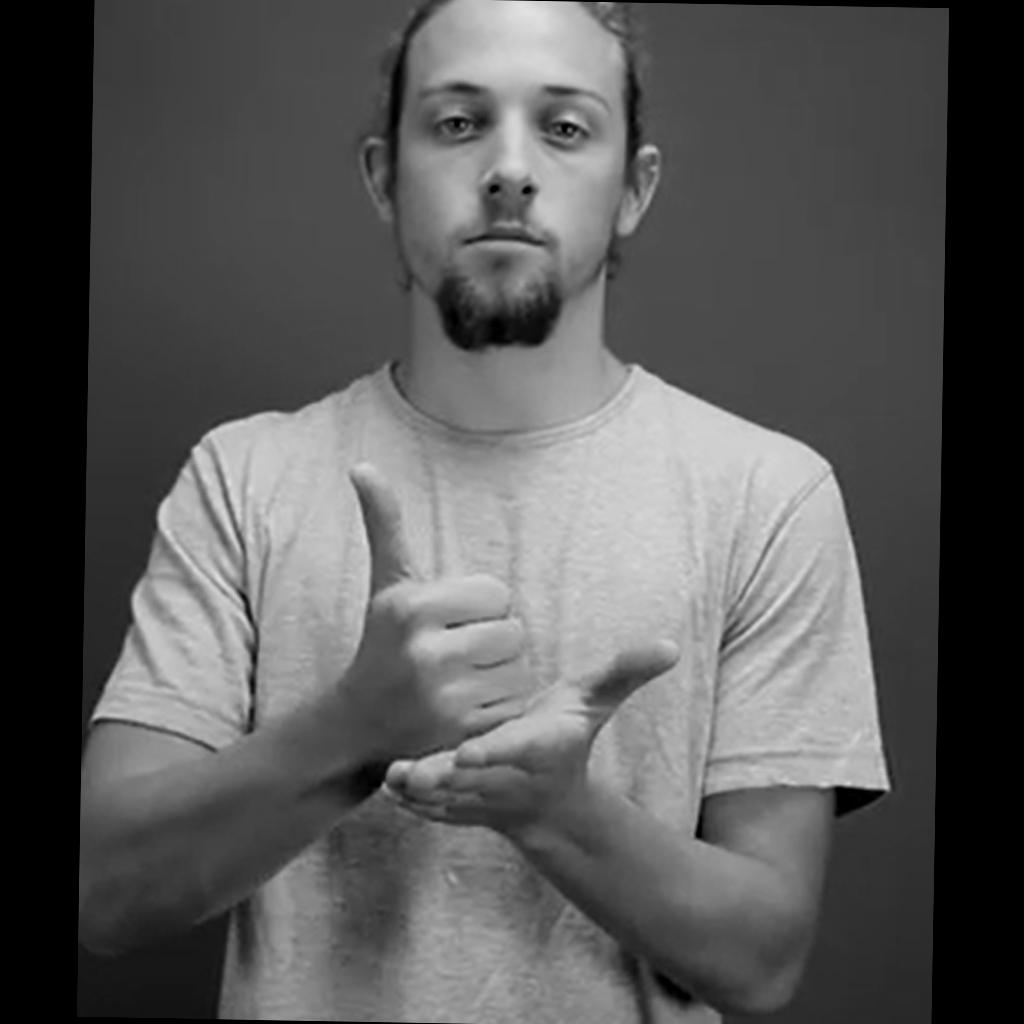help: (342, 462, 682, 828)
